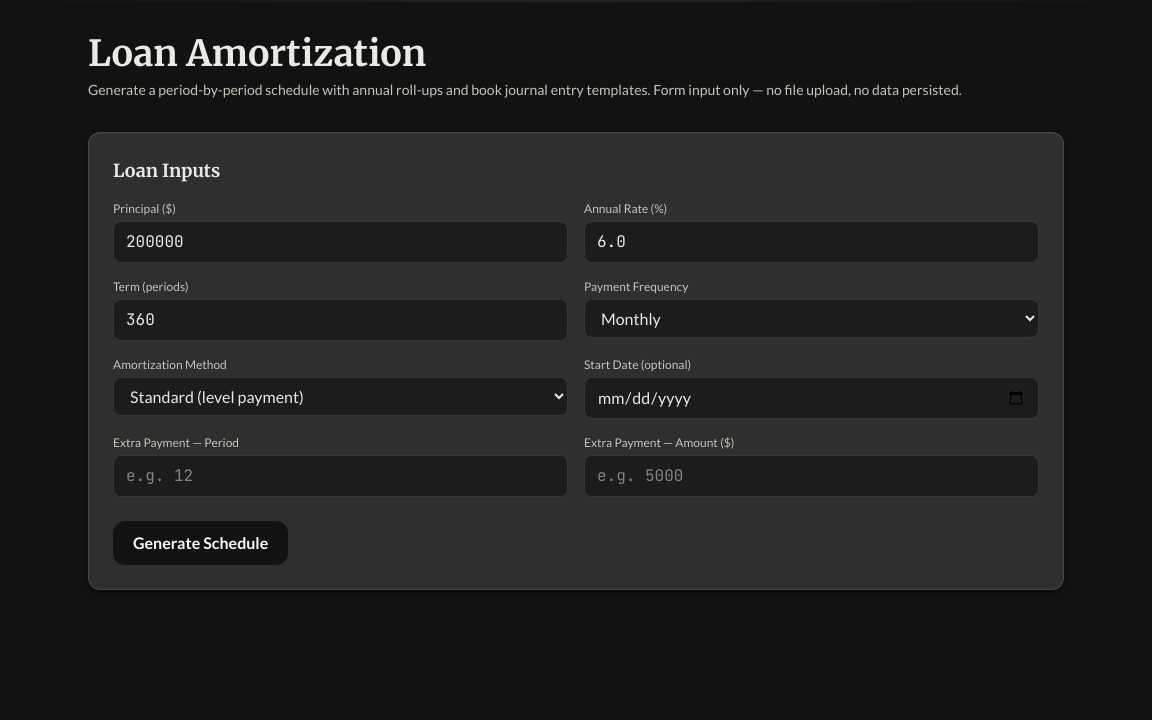
Test case: LoanAmortizationPage › surfaces the error when apiPost returns ok=false
Click the button "Generate Schedule" at (201, 543), box [113,521,288,565]
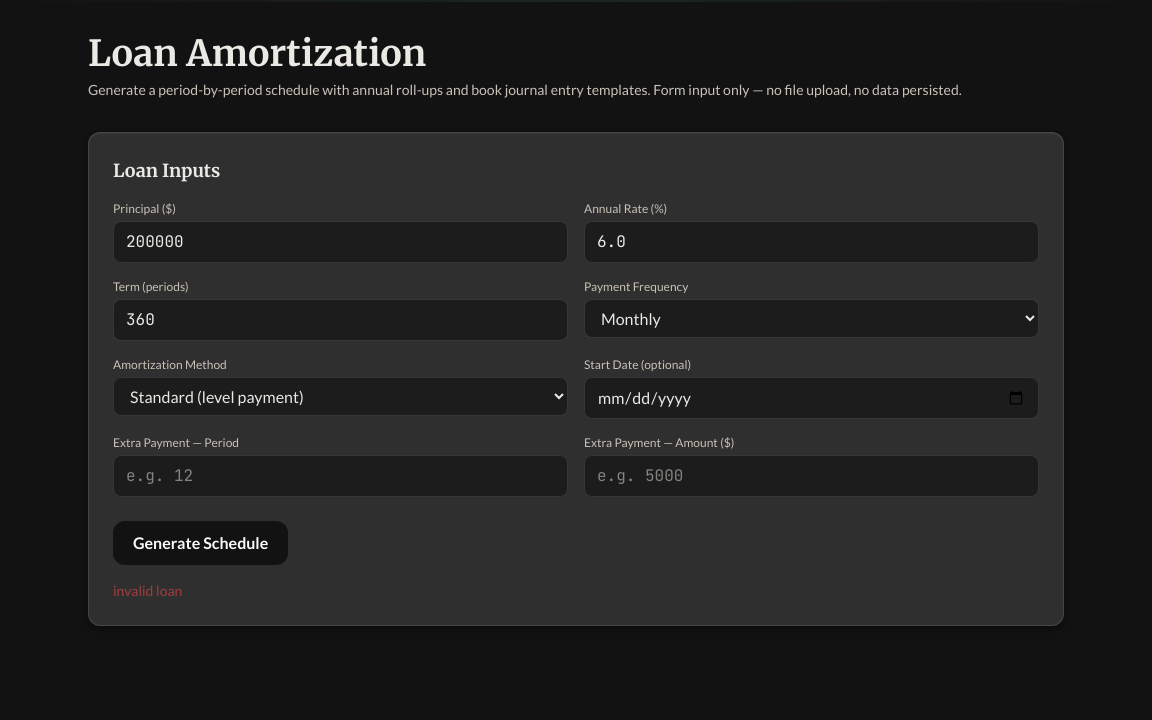
Expected: the message reads "invalid loan", [113,582,182,599]
